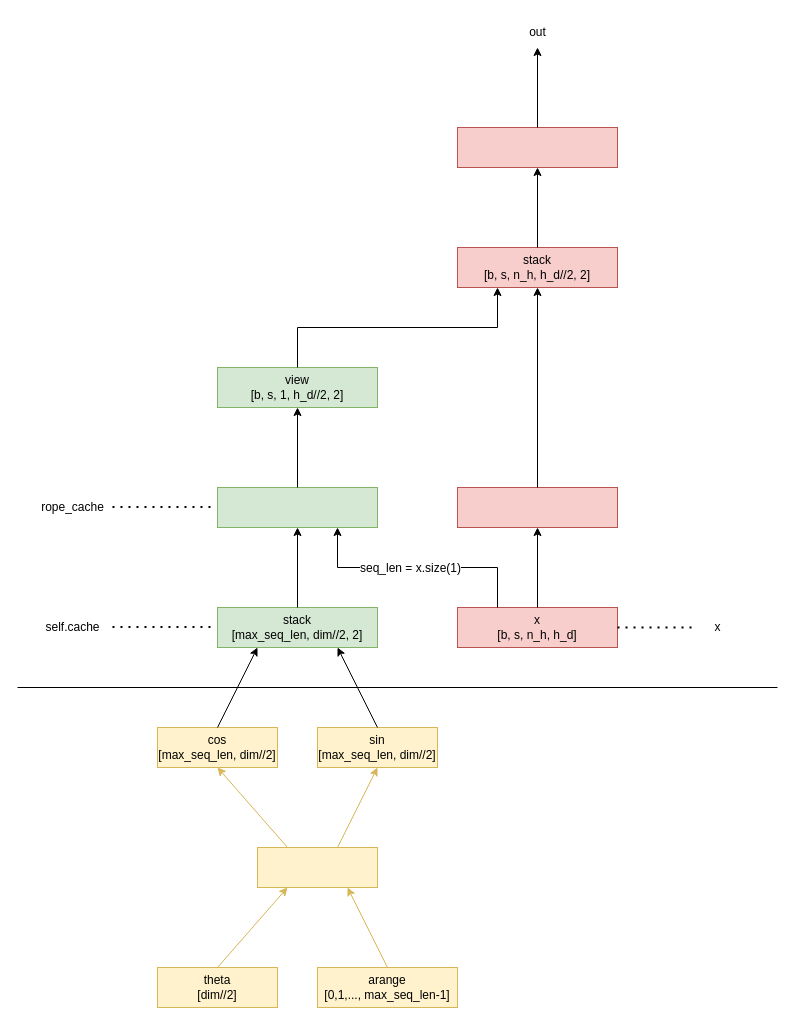
This 796x1025 diagram has some shape labels left out. Each missing label, with the box of its shape:
einsum [max_seq_len, dim//2]: (256, 846, 378, 888)
flatten [b, s, n_h, h_d]: (456, 126, 618, 168)
reshape [b, s, n_h, h_d//2, 2]: (456, 486, 618, 528)
slice [seq_len, dim//2, 2]: (216, 486, 378, 528)
